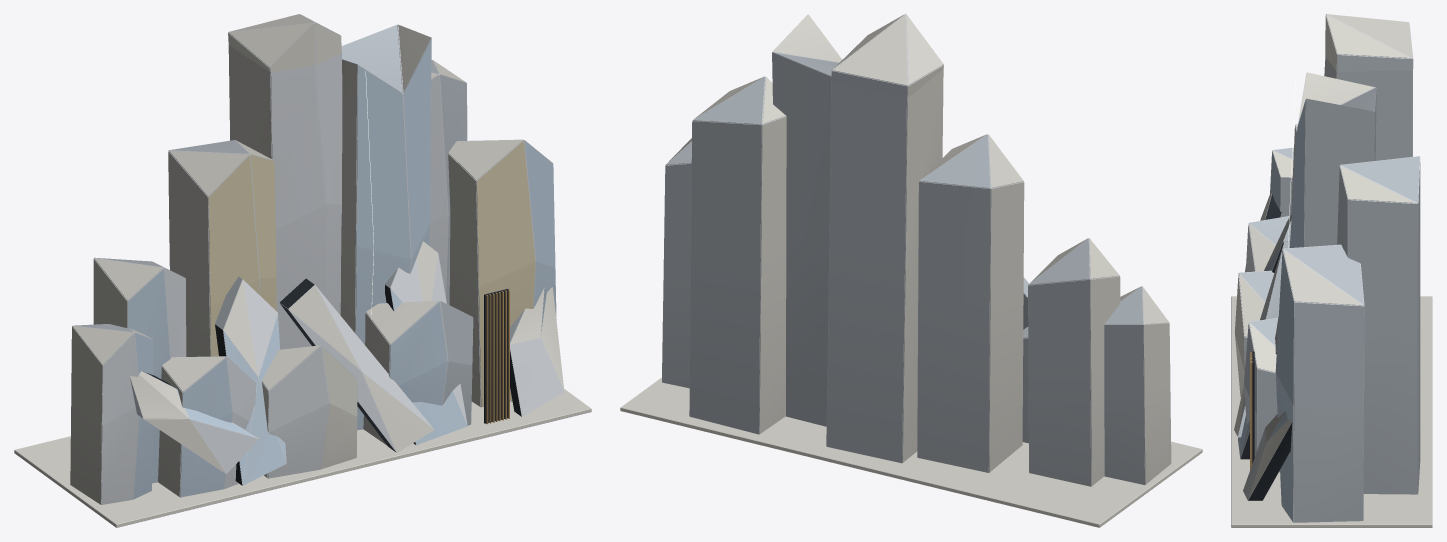
File: projection-crystals-v9.glb
3 renders of one model, left to right at view 1: azimuth 30°, elevation 25°; view 2: azimuth 150°, elevation 25°; view 3: azimuth 270°, elevation 25°, orthographic. The views are drawn at different scales.
Parts seen in each view (by area): view 1: Projection Crystals | ivory sculpted return, Projection Crystals | white projected sculpted facade, Projection Crystals | white projected sculpted facade | pale, Projection Crystals | mapped amber primary facet, Projection Crystals | crystal brushed silver facet, Projection Crystals | dark crystal recessed joint, Projection Crystals | crystal champagne gold facet; view 2: Projection Crystals | crystal brushed silver facet, Projection Crystals | ivory sculpted return, Projection Crystals | white projected sculpted facade; view 3: Projection Crystals | crystal brushed silver facet, Projection Crystals | ivory sculpted return, Projection Crystals | white projected sculpted facade, Projection Crystals | white projected sculpted facade | pale, Projection Crystals | dark crystal recessed joint, Projection Crystals | crystal champagne gold facet.
Boxes of the visible parts, <box> form: Projection Crystals | ivory sculpted return: <box>14,14,591,527</box>; Projection Crystals | white projected sculpted facade: <box>72,14,564,504</box>; Projection Crystals | white projected sculpted facade | pale: <box>128,39,556,498</box>; Projection Crystals | mapped amber primary facet: <box>208,141,535,406</box>; Projection Crystals | crystal brushed silver facet: <box>74,25,524,437</box>; Projection Crystals | dark crystal recessed joint: <box>143,278,521,485</box>; Projection Crystals | crystal champagne gold facet: <box>486,289,509,424</box>; Projection Crystals | crystal brushed silver facet: <box>662,52,1144,486</box>; Projection Crystals | ivory sculpted return: <box>620,14,1202,527</box>; Projection Crystals | white projected sculpted facade: <box>662,14,1169,486</box>; Projection Crystals | crystal brushed silver facet: <box>1238,55,1420,522</box>; Projection Crystals | ivory sculpted return: <box>1231,14,1432,527</box>; Projection Crystals | white projected sculpted facade: <box>1234,14,1420,522</box>; Projection Crystals | white projected sculpted facade | pale: <box>1238,100,1305,521</box>; Projection Crystals | dark crystal recessed joint: <box>1240,194,1292,500</box>; Projection Crystals | crystal champagne gold facet: <box>1250,352,1252,469</box>.
Bounding box in the file's own units: 4.3 × 3.55 × 1.6.
